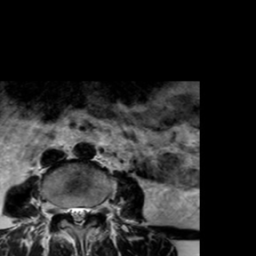CCS_normal: (75, 196, 81, 235)
LFS_normal: (89, 196, 98, 222)
LLS_stenosis: (81, 198, 89, 224)
RFS_stenosis: (59, 197, 67, 222)
RLS_normal: (67, 199, 75, 224)
